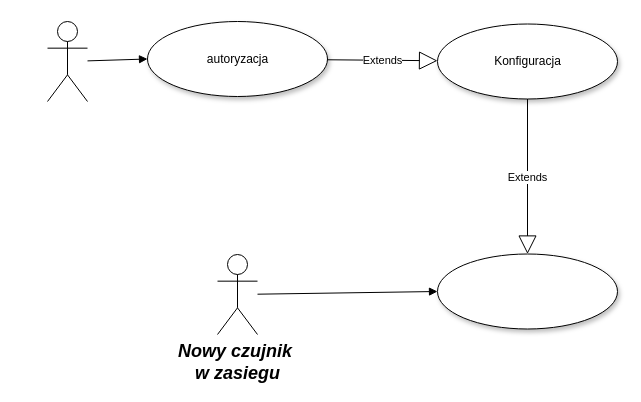
Image size: 641x402. Some labels were removed from this diagram. Each missing label, with the centre of its shape:
rejestracja: pixel 528 292
Storage Department: pixel 67 61
